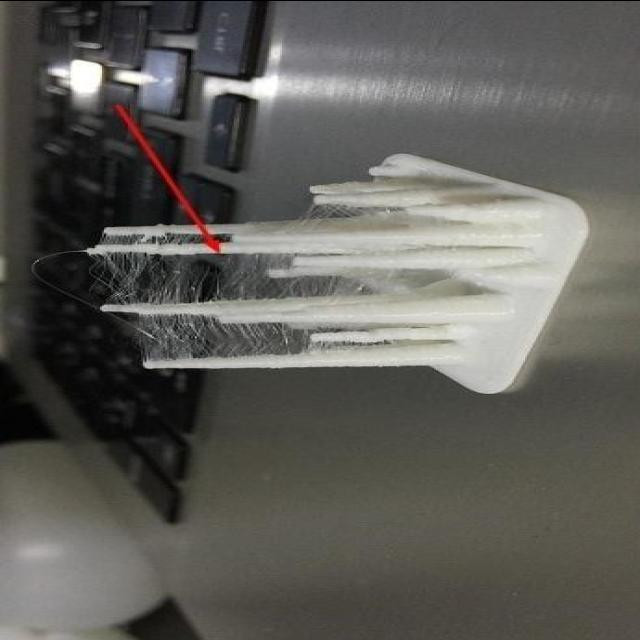Stringing: (98, 244, 332, 365)
